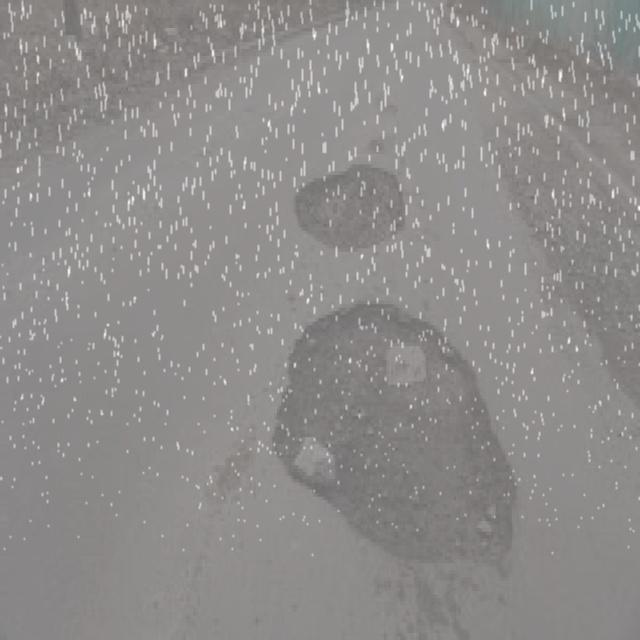Pothole: (270, 293, 532, 584), (286, 154, 415, 265)
